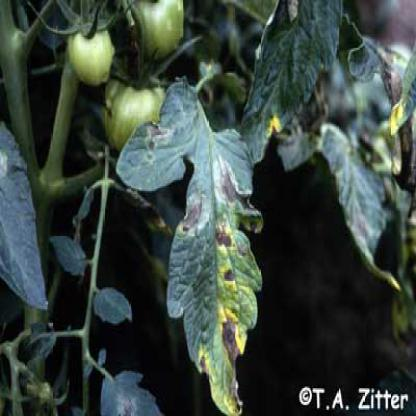Tomato leaf late blight: (114, 76, 272, 414)
